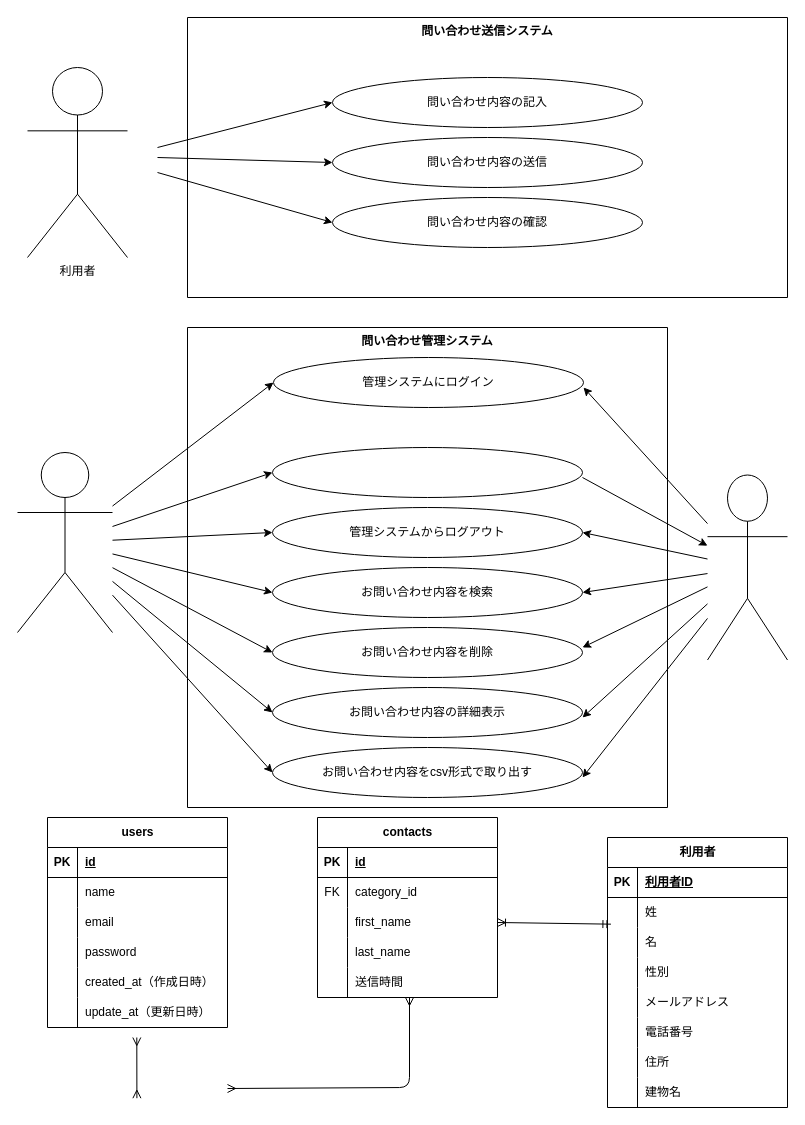
Some shapes in this 805 by 1125 pixel diagram are drawn without their labels. The centre of each missing label's shape, as x and y in pixels:
"新規ユーザーの作成・登録" belongs at point (427, 472).
"新規管理者" belongs at point (747, 567).
"管理者" belongs at point (64, 542).
